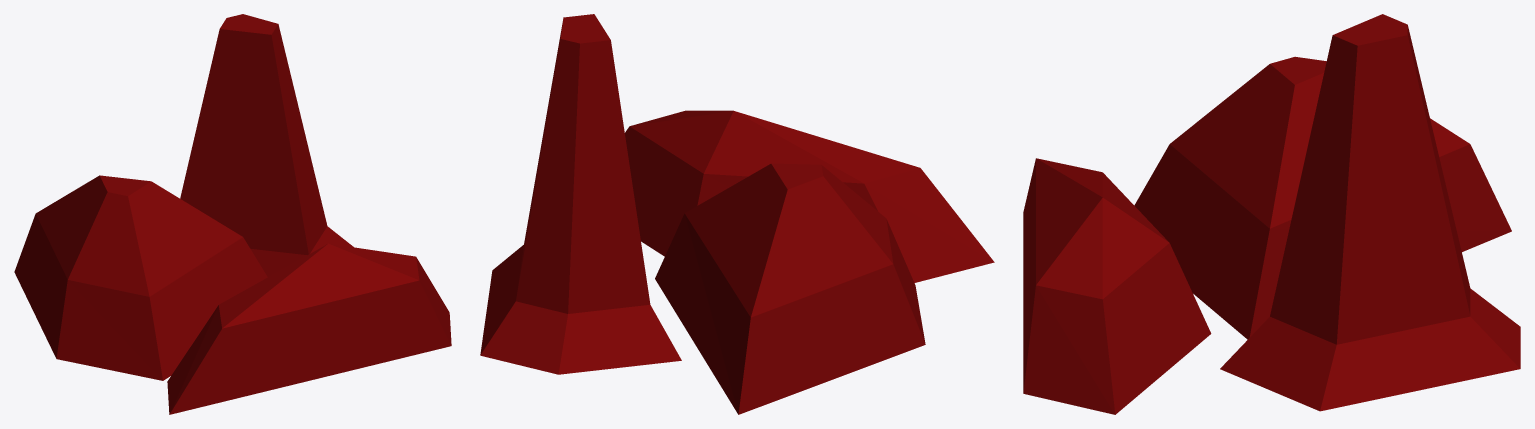
The model's file is tinrock1.obj.
3 views of the same model, side by side, from view 1: azimuth 30°, elevation 25°; view 2: azimuth 150°, elevation 25°; view 3: azimuth 270°, elevation 25° (orthographic). The views are drawn at different scales.
Parts seen in each view (by area): view 1: tinrock1_back; view 2: tinrock1_back; view 3: tinrock1_back.
Boxes of the visible parts, x1,y1,x2,y2 form: tinrock1_back: [14, 14, 451, 414]; tinrock1_back: [480, 14, 994, 414]; tinrock1_back: [1023, 14, 1520, 414].
Bounding box in the file's own units: 1.25 × 0.84 × 1.19.
